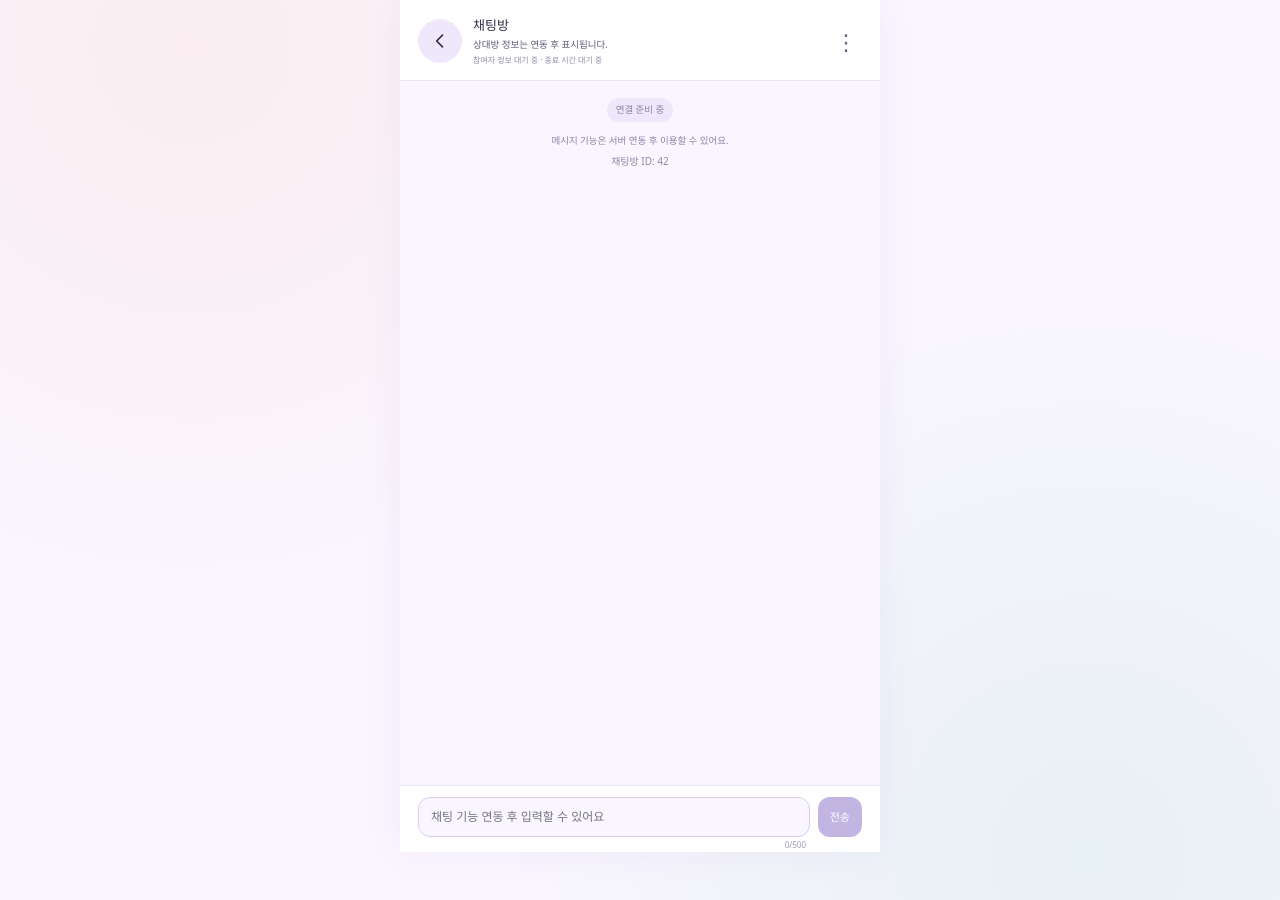
Test: ChatRoomPage › keeps the leave action visibly unavailable and does not fake a room state change
Click the button named "채팅방 메뉴".
click(846, 41)  # box [830,25,862,57]
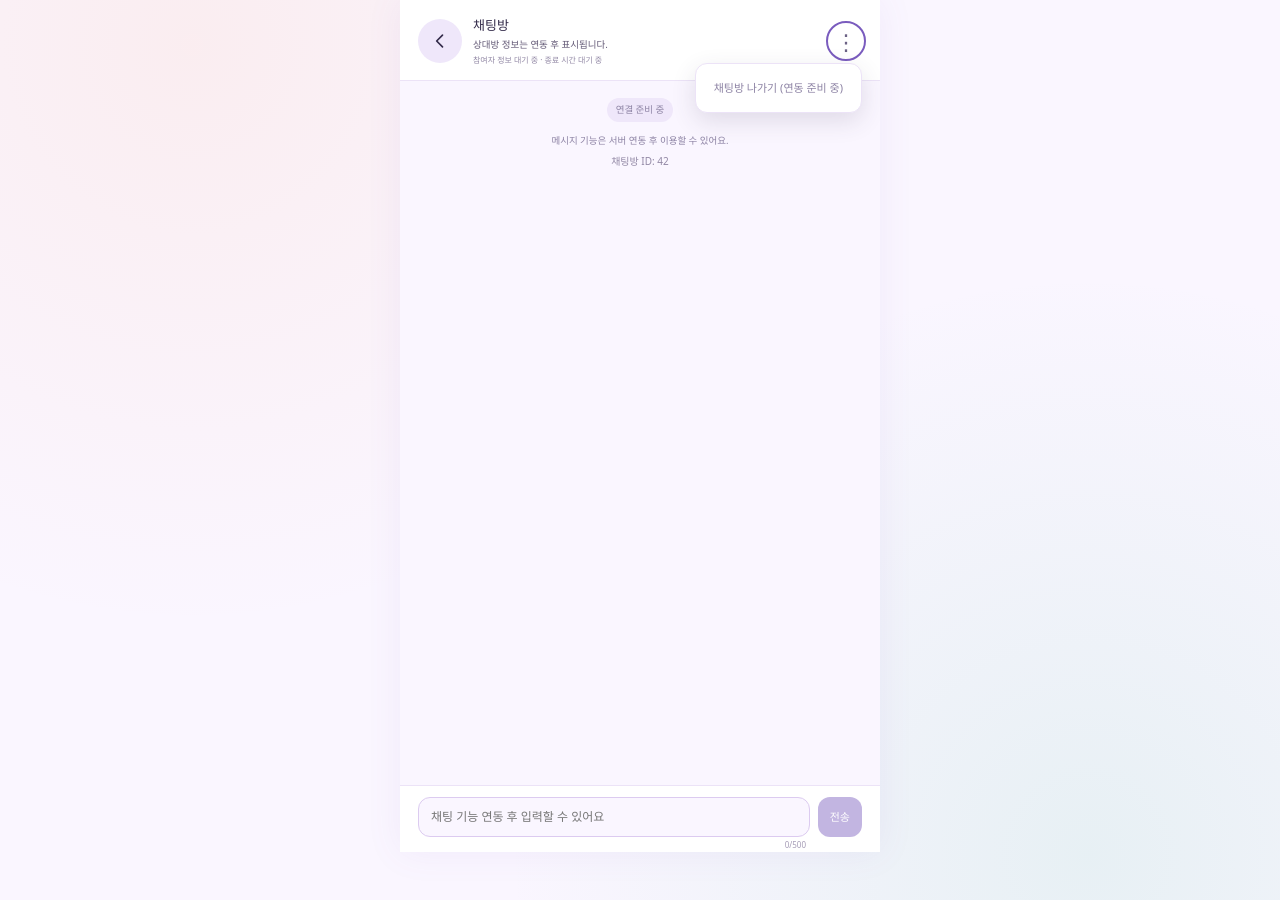
expect the menu item "채팅방 나가기 (연동 준비 중)" is disabled: met, box [702,70,855,106]
